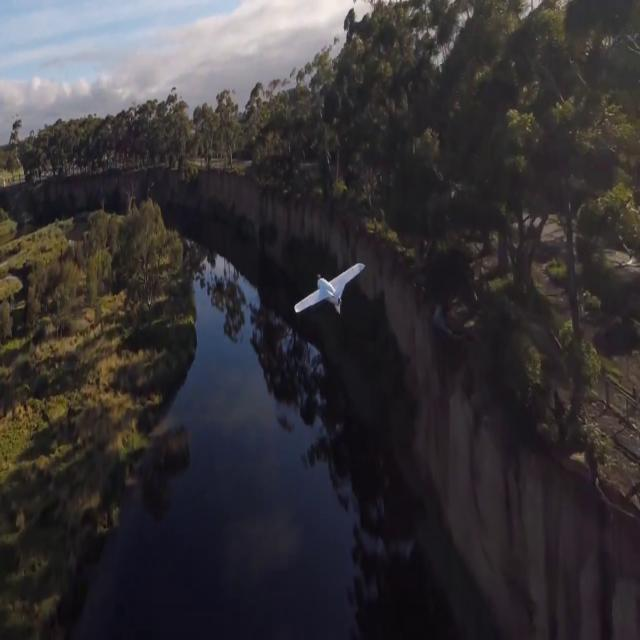iha: (321, 263, 325, 317)
